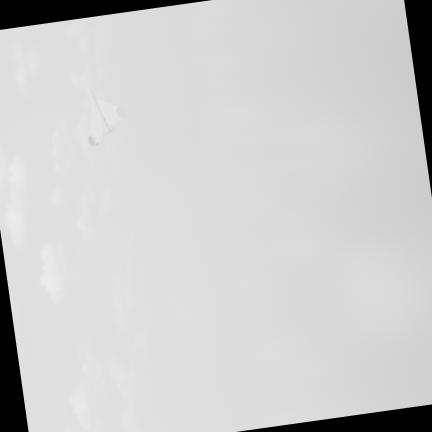Shahed: (87, 89, 126, 144)
